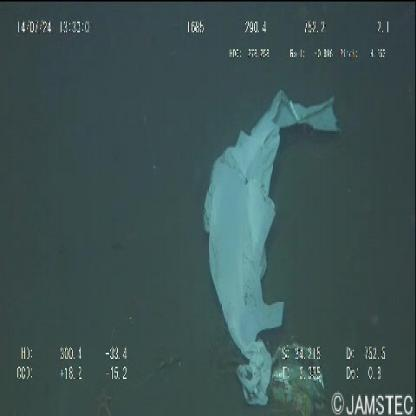Rác: (203, 88, 340, 407)
